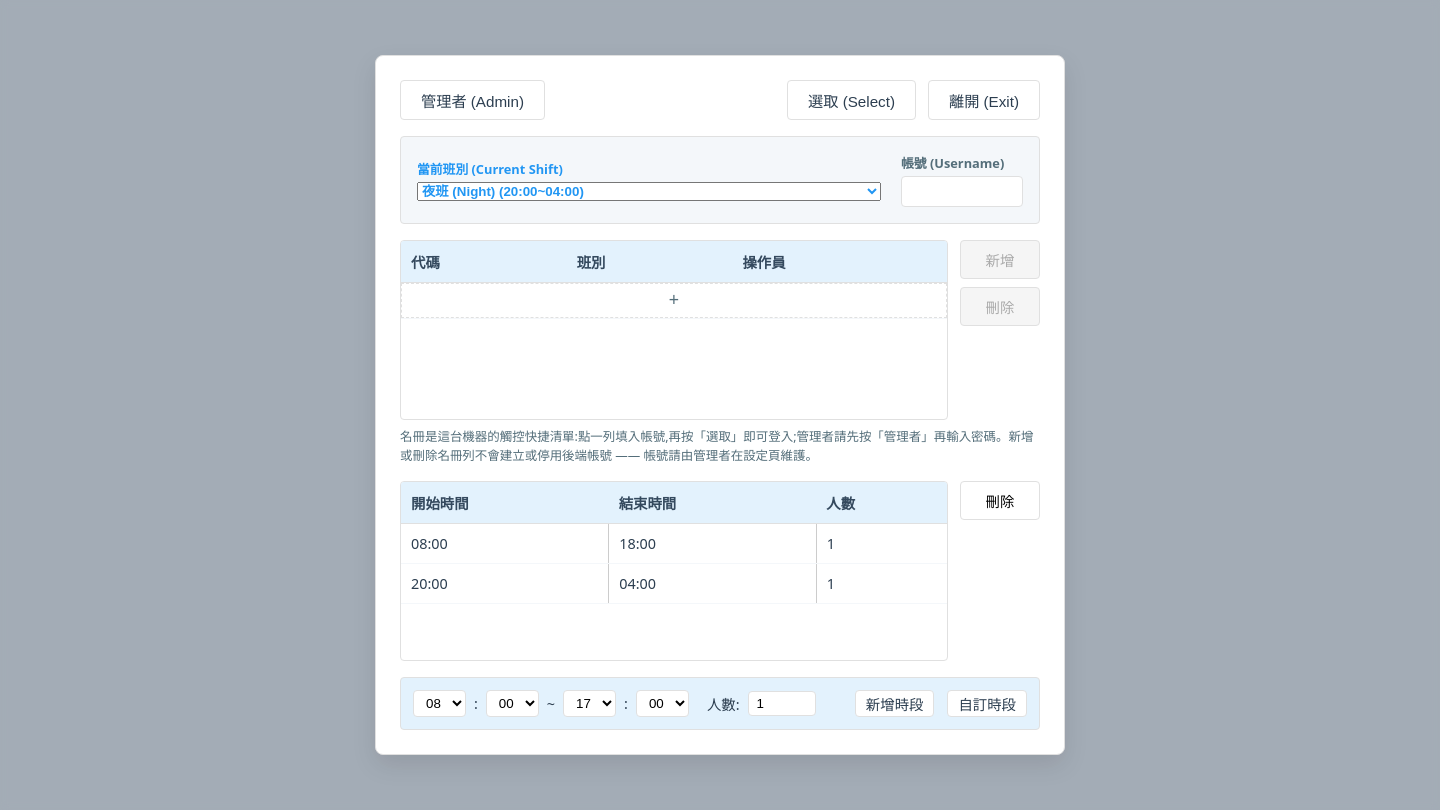
S12 名冊的新增與刪除 › 儲存後草稿列收起來,不會留一列空白在表上
Click the button named "新增一列".
click(674, 301)  # box x1=401 y1=283 x2=947 y2=318
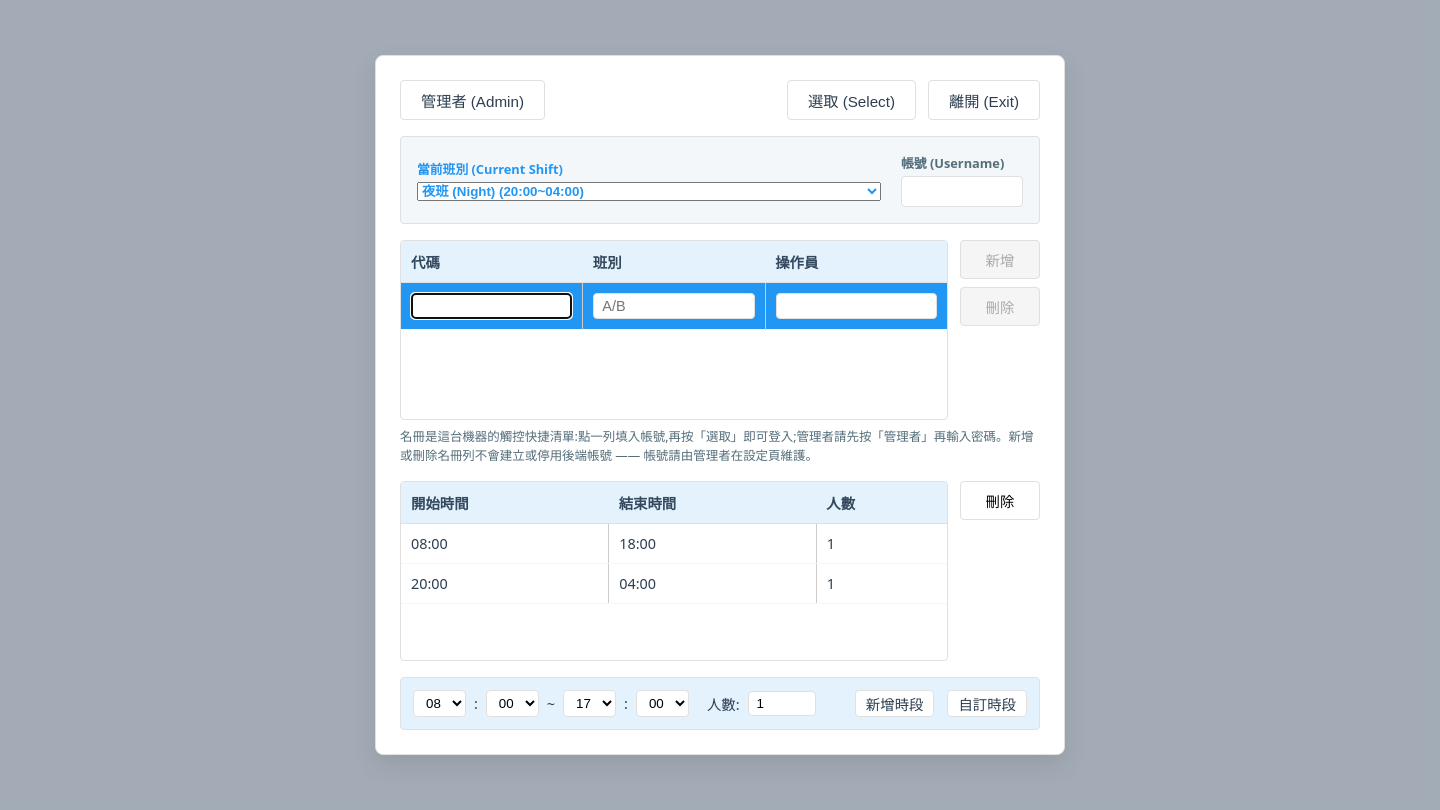
Type "OP7" into the field named "代碼".
click(492, 306); type("OP7")  # box x1=411 y1=293 x2=572 y2=319
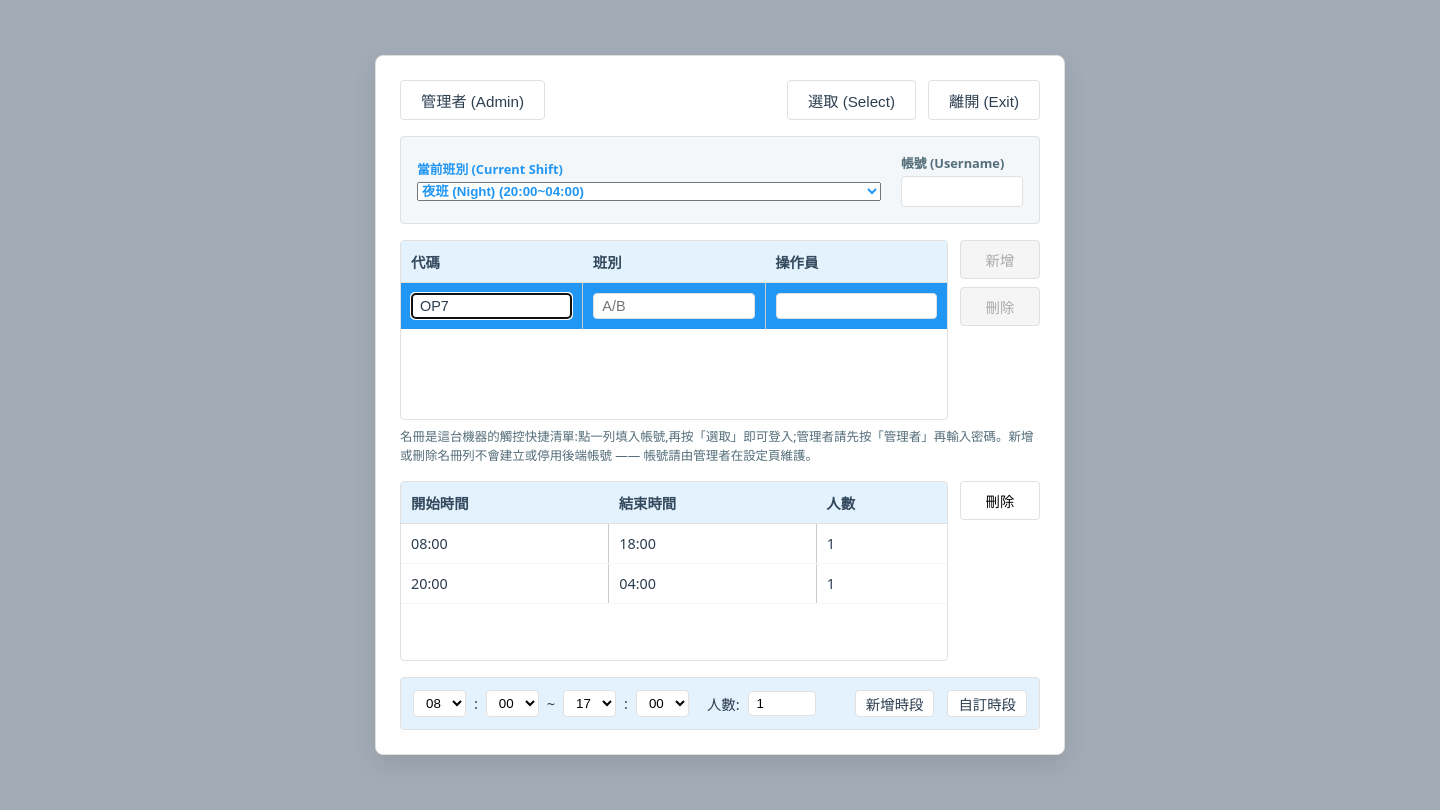
Type "張三" into the field named "操作員".
click(856, 306); type("張三")  # box x1=776 y1=293 x2=937 y2=319
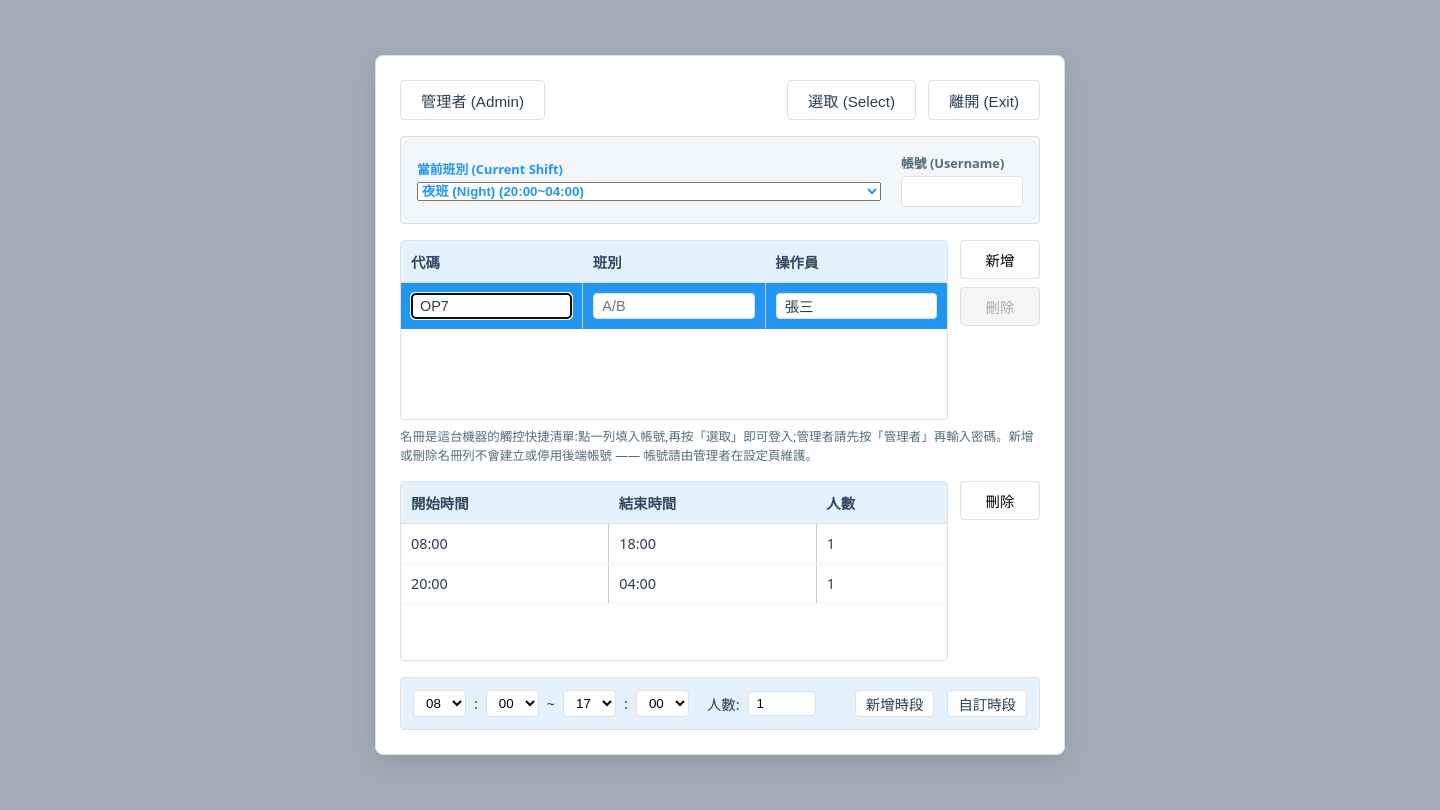
Click the button "新增".
click(1000, 259)  # box x1=960 y1=240 x2=1040 y2=279
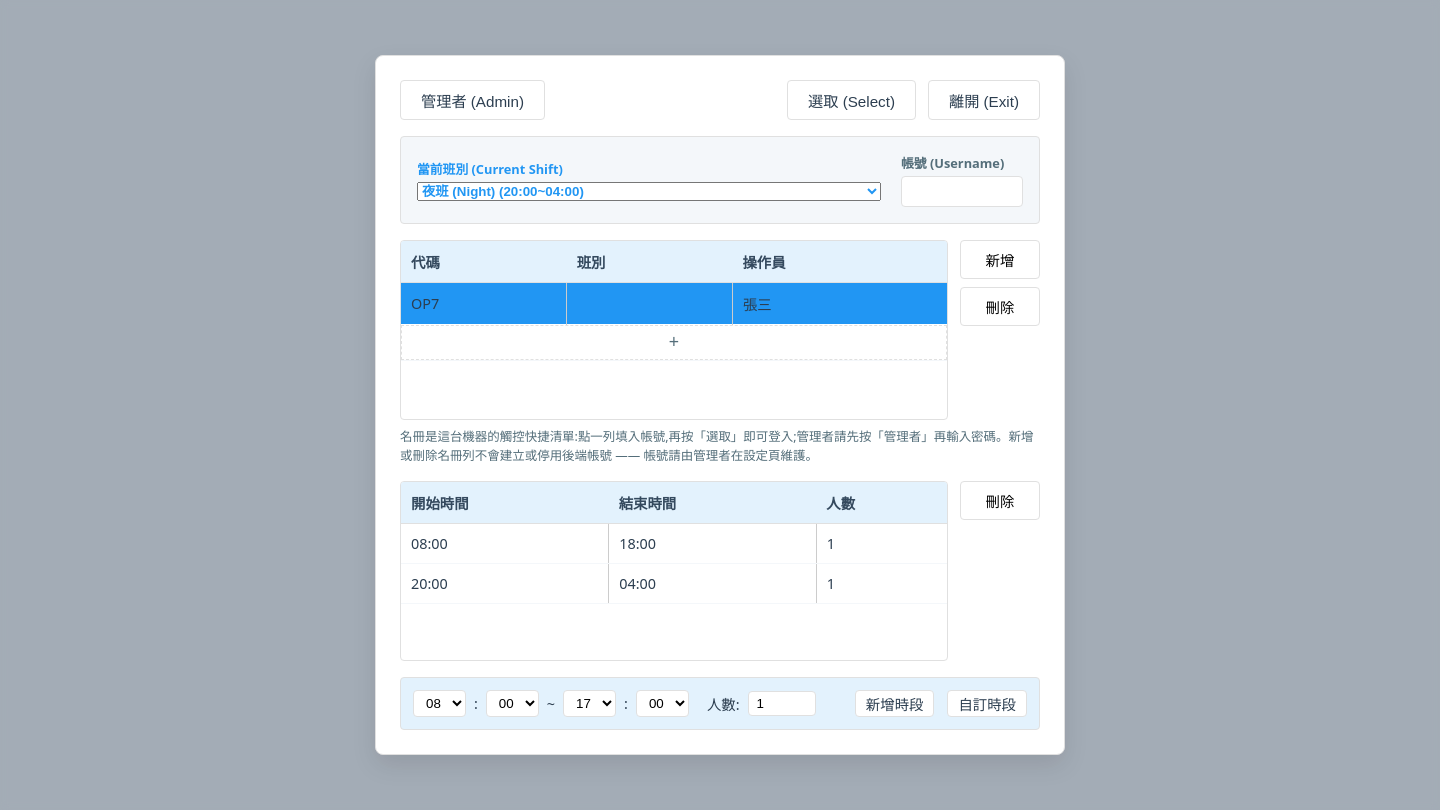
Result: the button named "新增一列" is shown at x1=401 y1=325 x2=947 y2=360
